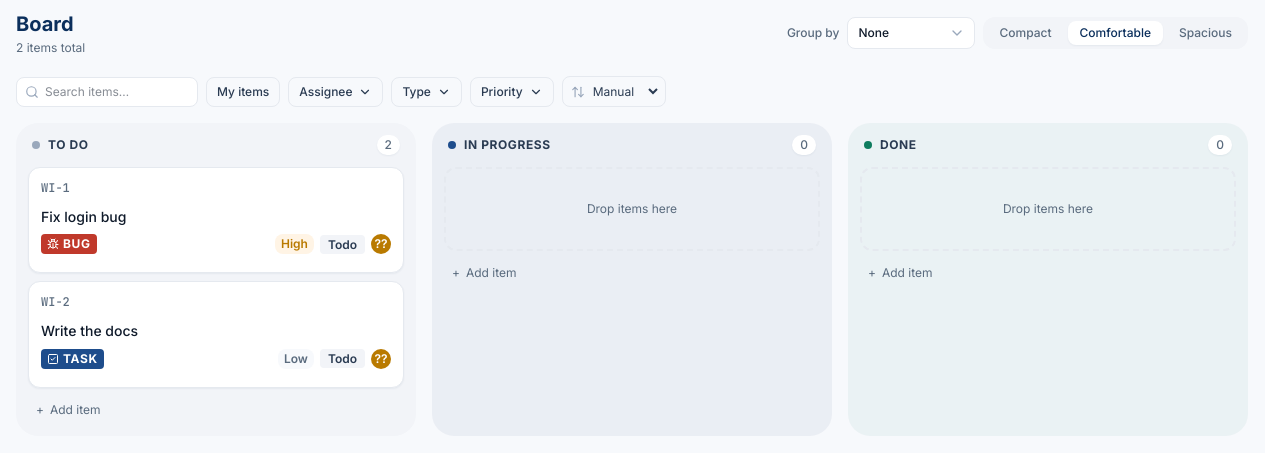
Test case: BoardView › text search narrows the visible cards
The width and height of the screenshot is (1265, 453).
Check: the button "Fix login bug" is shown, box [41,207,391,226]
Check: the button "Write the docs" is shown, box [41,321,391,341]
Type "login" into the search field labelled "Search items…" at (117, 92), box [45,78,189,106]
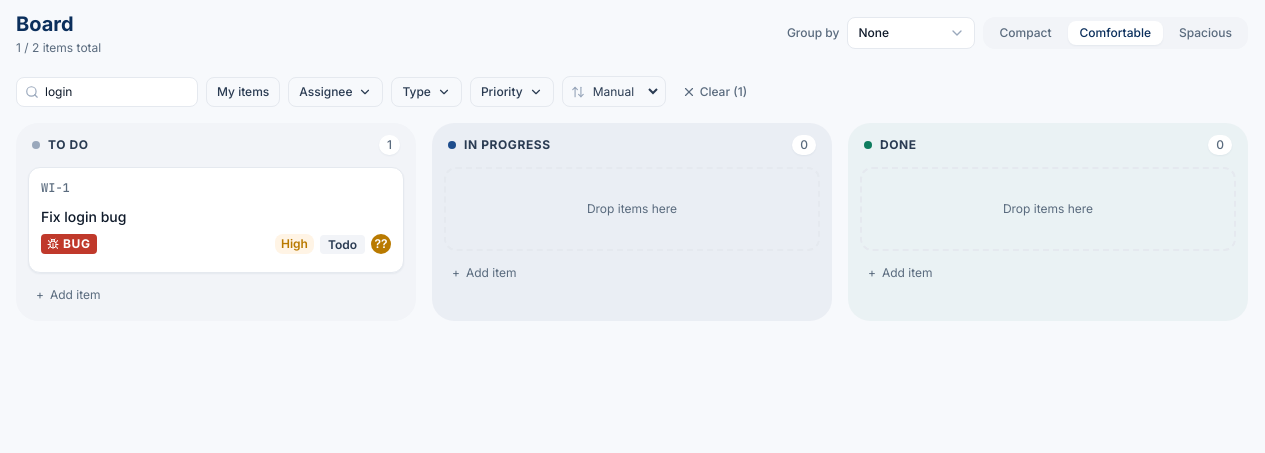
Check: the button "Fix login bug" is shown, box [41,207,391,226]
Check: the button "Write the docs" is gone
